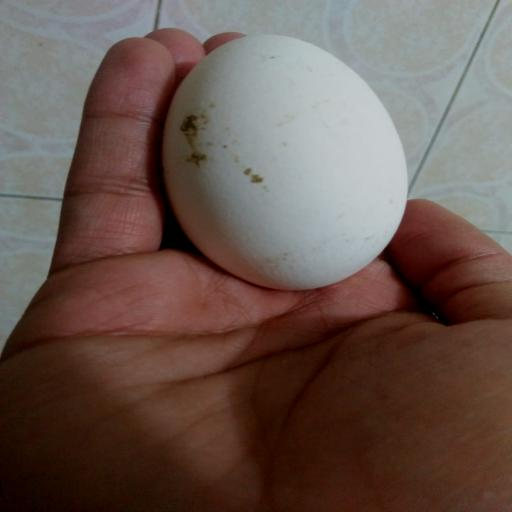telur: (162, 35, 407, 290)
